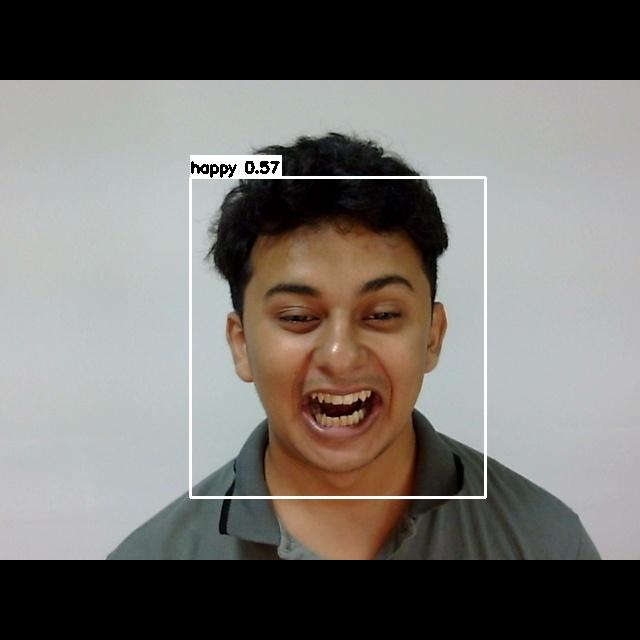Surprised: (244, 254, 437, 469)
